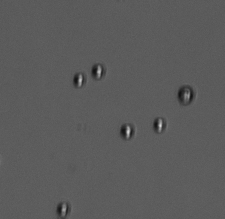Dead Cell: (176, 85, 195, 107)
Living Cell: (118, 123, 136, 141), (89, 61, 105, 81), (152, 116, 168, 134), (55, 200, 71, 216), (72, 72, 87, 89)
